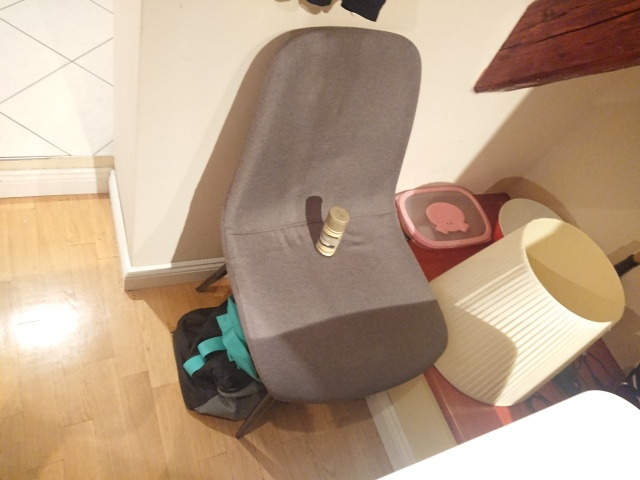Kotanyi Garlic Granules 70g: (312, 205, 352, 259)
